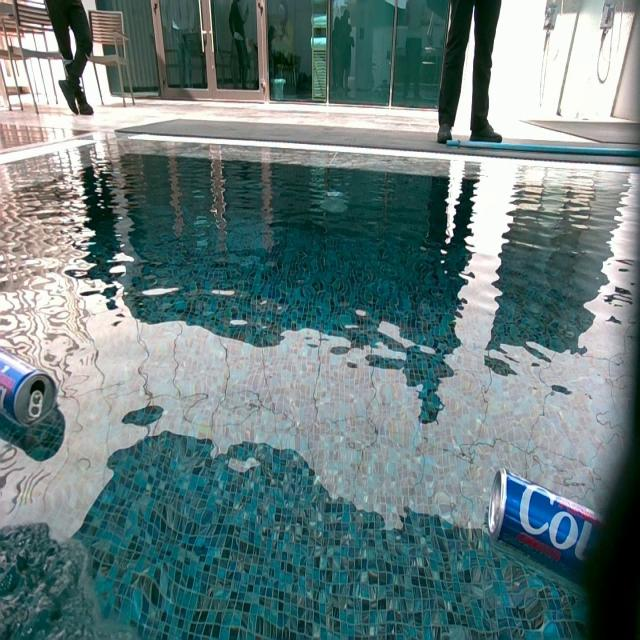Cans: (490, 472, 609, 593), (0, 327, 63, 427)
